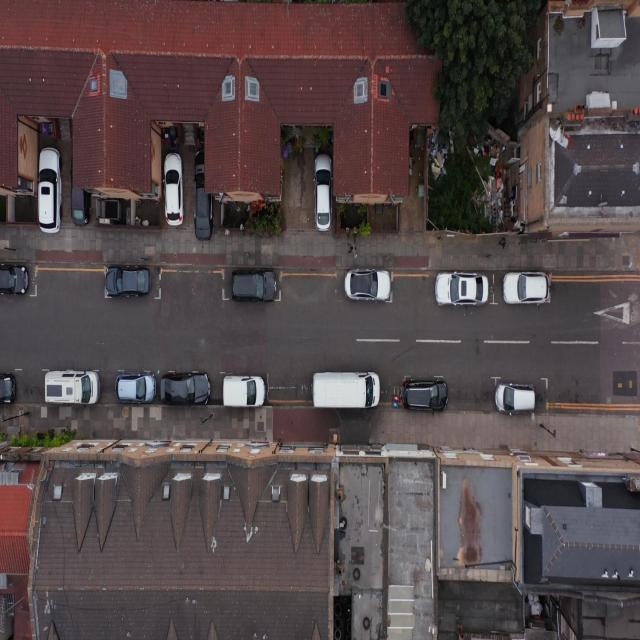Car: (37, 147, 63, 236), (434, 271, 490, 307), (194, 150, 214, 240), (69, 153, 92, 230), (162, 152, 184, 228), (231, 269, 277, 305), (160, 372, 210, 405), (503, 271, 550, 306), (403, 379, 448, 414), (105, 264, 151, 298), (344, 269, 391, 302), (313, 152, 332, 231), (494, 382, 535, 417), (114, 371, 156, 405), (0, 264, 29, 296), (0, 371, 16, 404)
Van: (311, 369, 381, 412), (44, 369, 100, 409), (222, 372, 266, 411)
